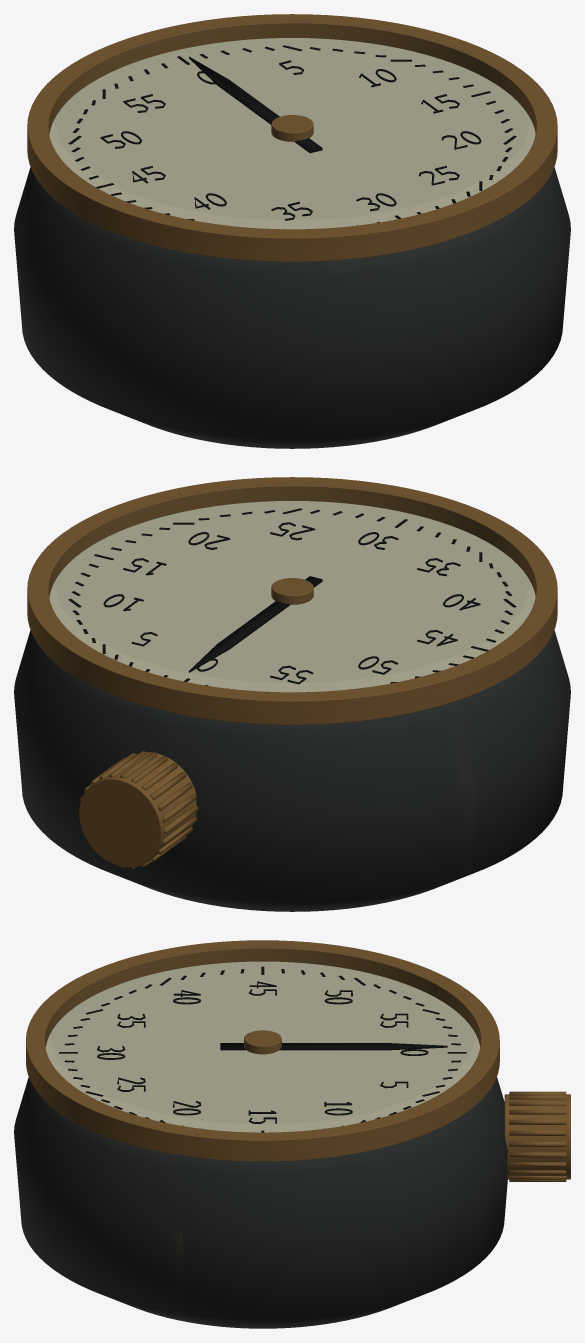
The model's file is D06_MechanicalTimer.fbx.
The picture shows the model from 3 angles, top to bottom: view 1: azimuth 30°, elevation 25°; view 2: azimuth 150°, elevation 25°; view 3: azimuth 270°, elevation 25°; orthographic projection. The views are drawn at different scales.
Parts seen in each view (by area): view 1: TimerShell_Mesh, DialFace_Mesh, DialMarkings_Mesh, NeedlePivot_Mesh; view 2: TimerShell_Mesh, DialFace_Mesh, DialPivot_Mesh, DialMarkings_Mesh, NeedlePivot_Mesh; view 3: TimerShell_Mesh, DialFace_Mesh, DialPivot_Mesh, DialMarkings_Mesh, NeedlePivot_Mesh.
Part boxes in pixels (x1=…): TimerShell_Mesh: x1=14, y1=14, x2=570, y2=448; DialFace_Mesh: x1=49, y1=38, x2=535, y2=229; DialMarkings_Mesh: x1=68, y1=45, x2=516, y2=229; NeedlePivot_Mesh: x1=189, y1=56, x2=322, y2=153; TimerShell_Mesh: x1=14, y1=477, x2=570, y2=911; DialFace_Mesh: x1=49, y1=501, x2=535, y2=692; DialPivot_Mesh: x1=78, y1=751, x2=198, y2=868; DialMarkings_Mesh: x1=68, y1=508, x2=516, y2=692; NeedlePivot_Mesh: x1=189, y1=576, x2=322, y2=672; TimerShell_Mesh: x1=14, y1=940, x2=507, y2=1328; DialFace_Mesh: x1=45, y1=961, x2=480, y2=1132; DialPivot_Mesh: x1=504, y1=1091, x2=570, y2=1181; DialMarkings_Mesh: x1=59, y1=966, x2=466, y2=1132; NeedlePivot_Mesh: x1=220, y1=1030, x2=447, y2=1054.
Size of the model in its own units: 0.105 by 0.0517 by 0.1175.
